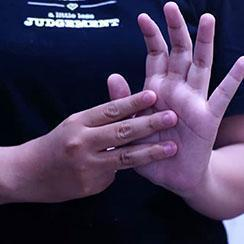M: (30, 0, 244, 244)
